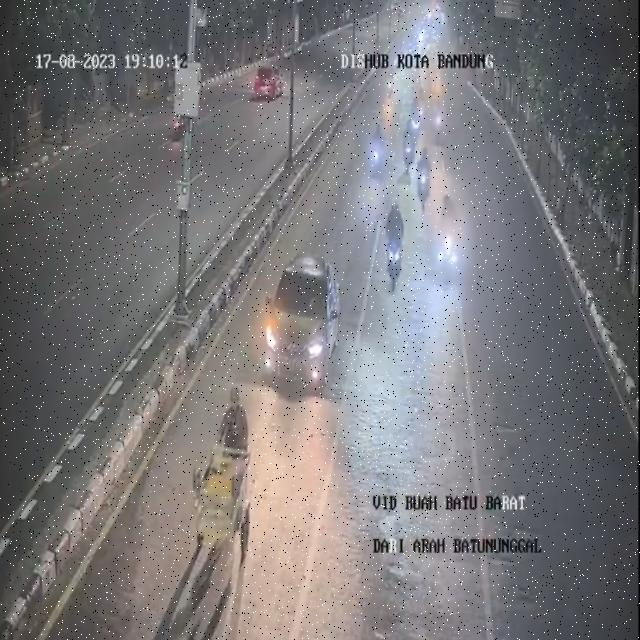cars: (258, 254, 347, 389)
motorcycle: (382, 201, 406, 300), (442, 192, 461, 283), (414, 132, 434, 204), (366, 119, 385, 182), (432, 95, 447, 143), (401, 122, 415, 170), (418, 90, 430, 121)
